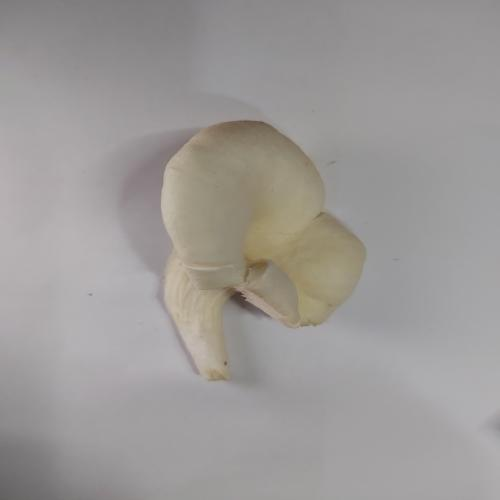Oyster Mushroom: (157, 119, 367, 382)
